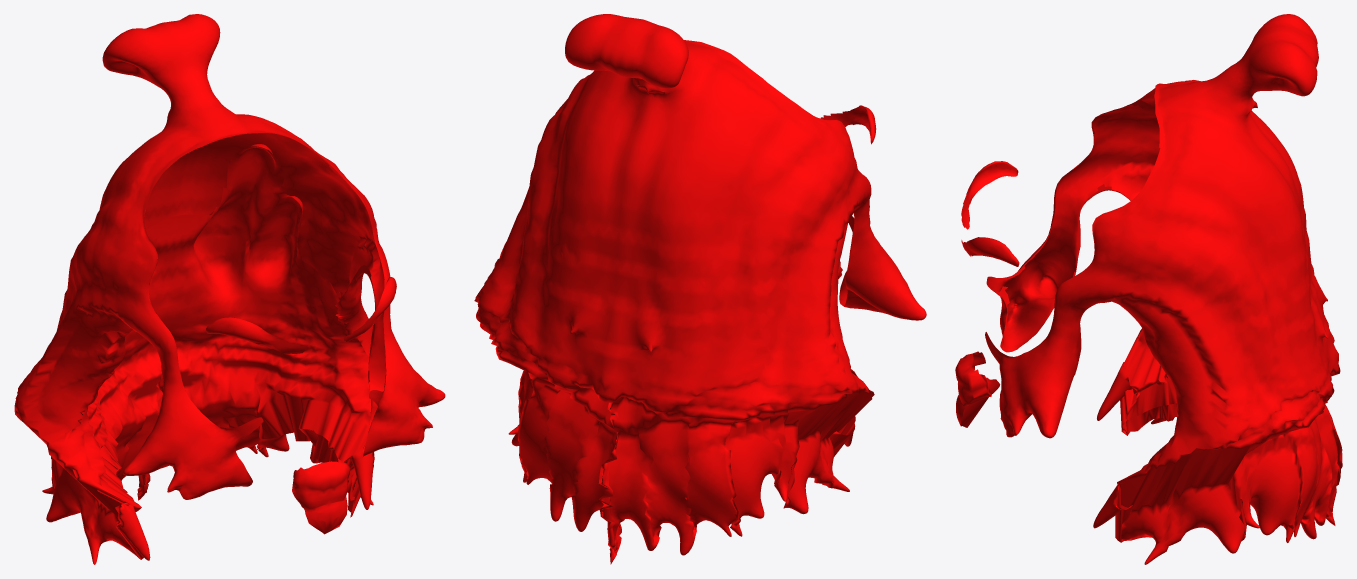
Rendered from culturalibre_hair_11_F.glb.
3 views of the same model, side by side, from view 1: azimuth 30°, elevation 25°; view 2: azimuth 150°, elevation 25°; view 3: azimuth 270°, elevation 25° (orthographic). The views are drawn at different scales.
Size of the model in its own units: 0.252 by 0.3357 by 0.2365.
1 material, 1 textured.
